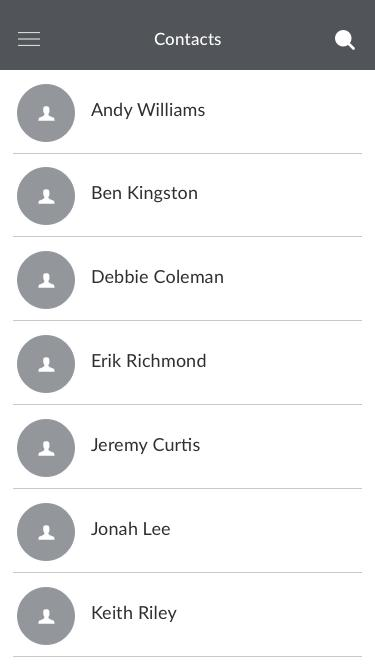Icon: (17, 167, 76, 226), (17, 335, 76, 394), (17, 503, 76, 562), (18, 251, 76, 310), (18, 85, 76, 143), (18, 419, 76, 477), (18, 587, 76, 645), (334, 30, 356, 51), (18, 32, 42, 48)
Text: (93, 269, 224, 285), (90, 103, 205, 120), (93, 185, 199, 203), (91, 437, 201, 454), (92, 352, 207, 368), (92, 604, 177, 622), (91, 522, 171, 536), (155, 33, 222, 47)
Toolbar: (1, 1, 375, 71)
